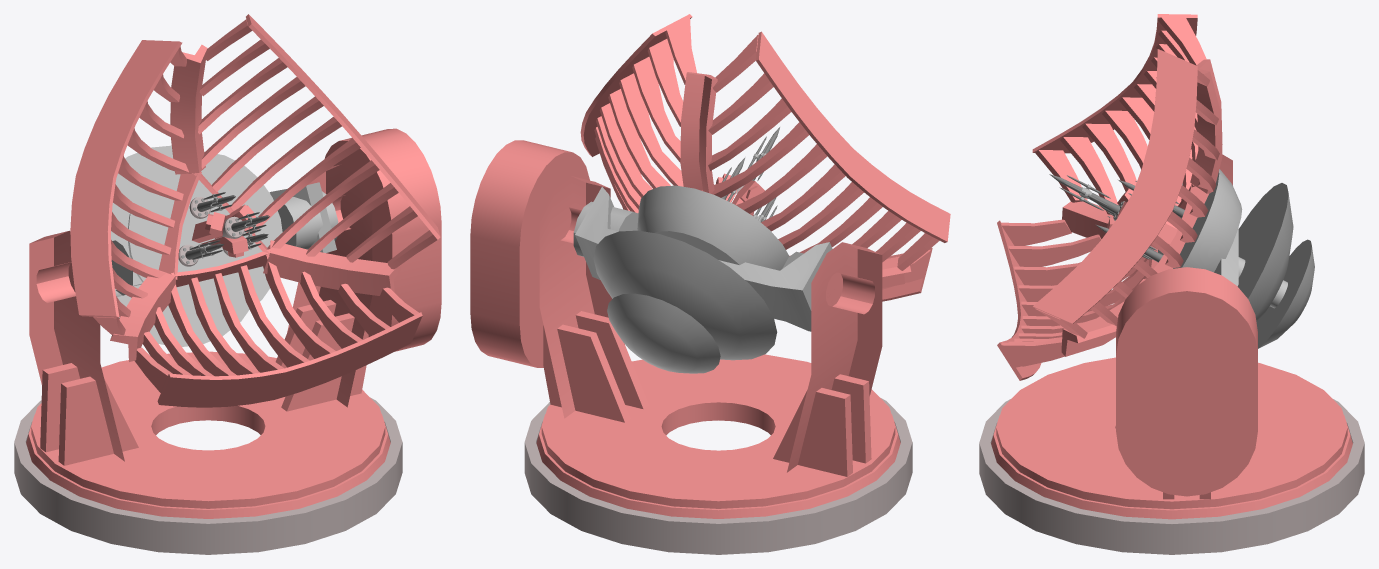
File: desert-radar-01.glb
3 views of the same model, side by side, from view 1: azimuth 30°, elevation 25°; view 2: azimuth 150°, elevation 25°; view 3: azimuth 270°, elevation 25° (orthographic).
Parts seen in each view (by area): view 1: Sphere.004, Cube.115_Cube.020, Cube.113_Cube.020, Cube.114_Cube.020, Cylinder.024_Cylinder.008, Sphere.003; view 2: Sphere.004, Sphere.003, Cube.113_Cube.020, Cylinder.024_Cylinder.008, Cube.114_Cube.020, Cube.115_Cube.020; view 3: Sphere.004, Cube.114_Cube.020, Cylinder.024_Cylinder.008, Sphere.003, Cube.113_Cube.020, Cube.115_Cube.020.
Boxes of the visible parts, bbox=[...] form: Sphere.004: bbox=[26, 128, 441, 518]; Cube.115_Cube.020: bbox=[134, 44, 422, 407]; Cube.113_Cube.020: bbox=[70, 40, 401, 335]; Cube.114_Cube.020: bbox=[110, 14, 440, 361]; Cylinder.024_Cylinder.008: bbox=[14, 397, 402, 554]; Sphere.003: bbox=[111, 145, 338, 346]; Sphere.004: bbox=[470, 140, 900, 518]; Sphere.003: bbox=[573, 185, 832, 373]; Cube.113_Cube.020: bbox=[622, 31, 950, 270]; Cylinder.024_Cylinder.008: bbox=[524, 398, 912, 554]; Cube.114_Cube.020: bbox=[580, 14, 911, 287]; Cube.115_Cube.020: bbox=[680, 72, 932, 301]; Sphere.004: bbox=[991, 149, 1352, 519]; Cube.114_Cube.020: bbox=[1032, 49, 1219, 338]; Cylinder.024_Cylinder.008: bbox=[979, 399, 1364, 554]; Sphere.003: bbox=[1158, 169, 1314, 348]; Cube.113_Cube.020: bbox=[1032, 14, 1206, 356]; Cube.115_Cube.020: bbox=[997, 59, 1222, 380].
Size of the model in its own units: 1.56 by 1.74 by 1.36.
